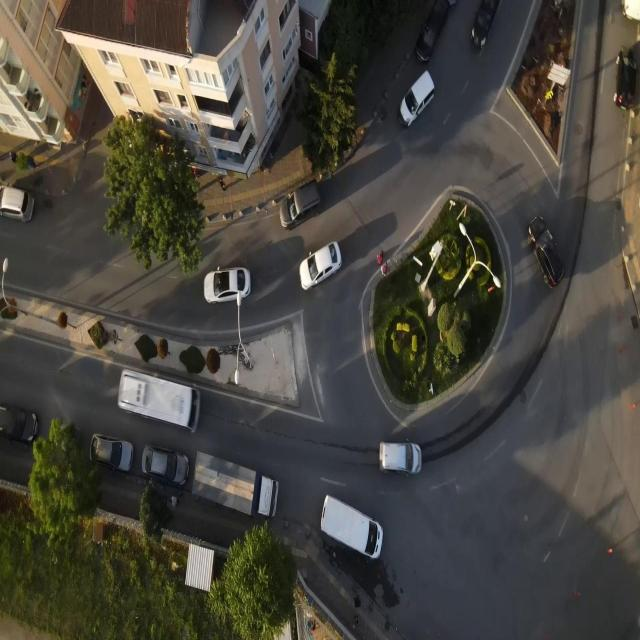p3rson: (350, 612, 360, 628), (352, 594, 362, 608), (170, 495, 180, 508), (376, 250, 384, 266), (218, 178, 227, 192), (9, 150, 18, 163), (381, 261, 388, 276)
